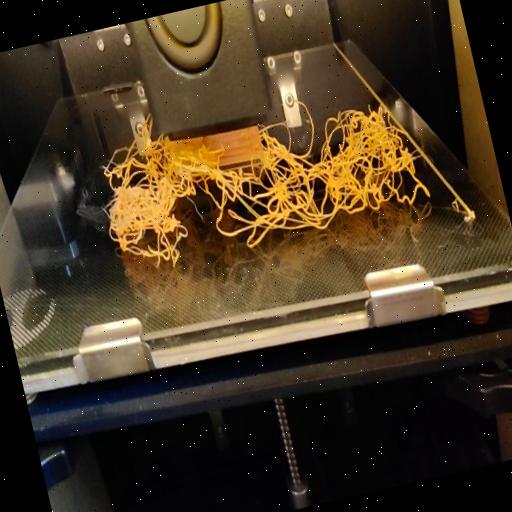spaghetti: (90, 84, 436, 270), (116, 119, 163, 150)
